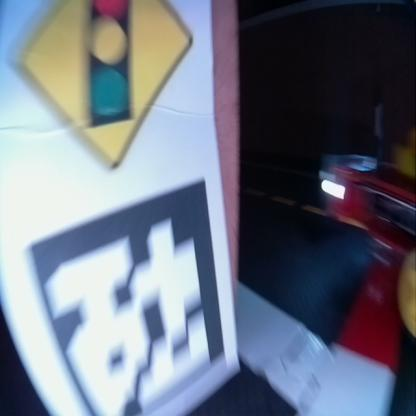Duckiebot: (317, 158, 413, 339)
QR code: (27, 178, 228, 412)
Signal sign: (10, 2, 198, 170)
